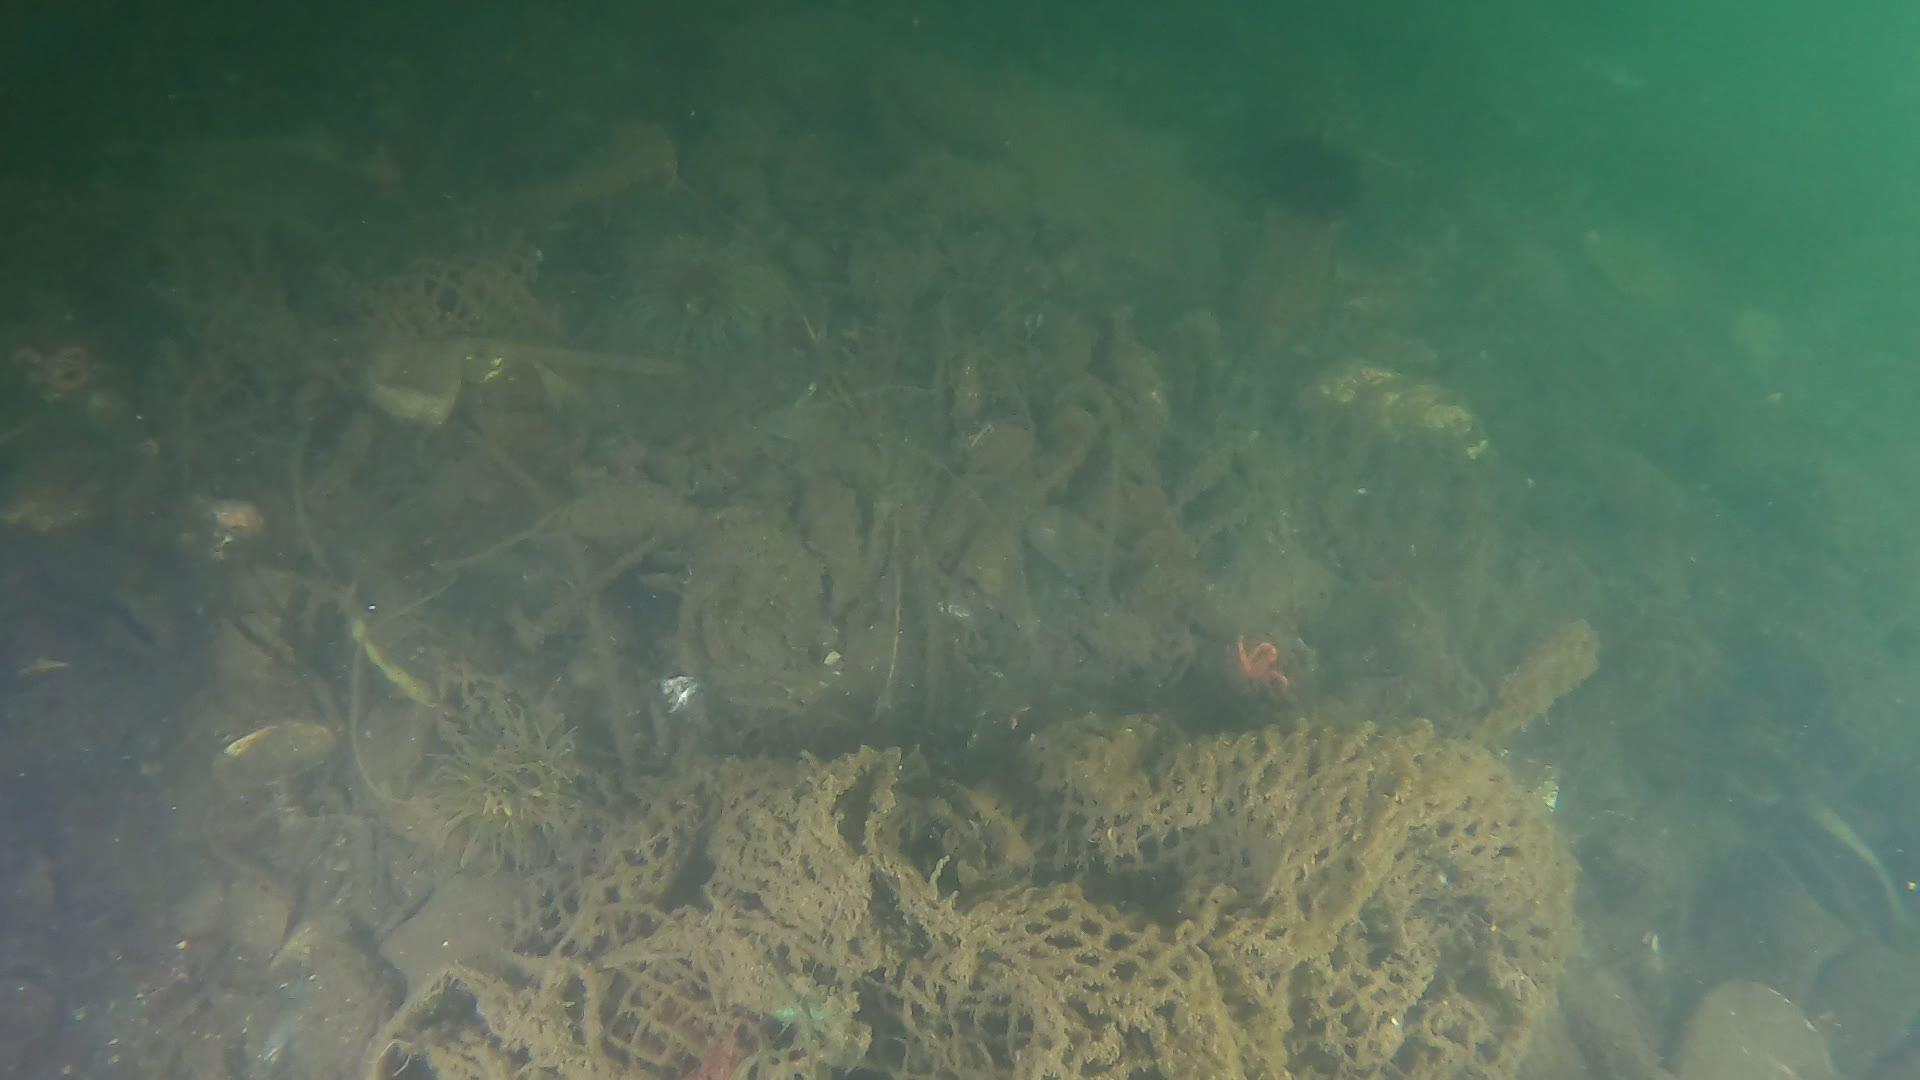fish net: (498, 709, 1590, 1080)
